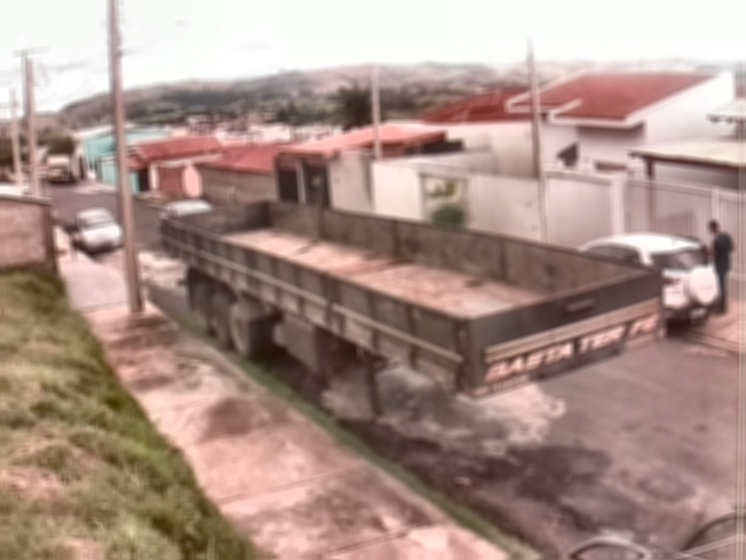person: (701, 219, 738, 316)
